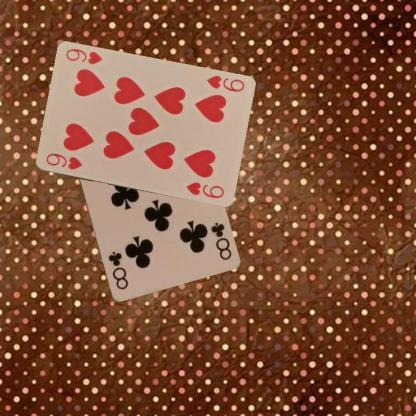8c: (207, 219, 233, 262)
9h: (204, 73, 246, 94), (42, 150, 83, 171)
